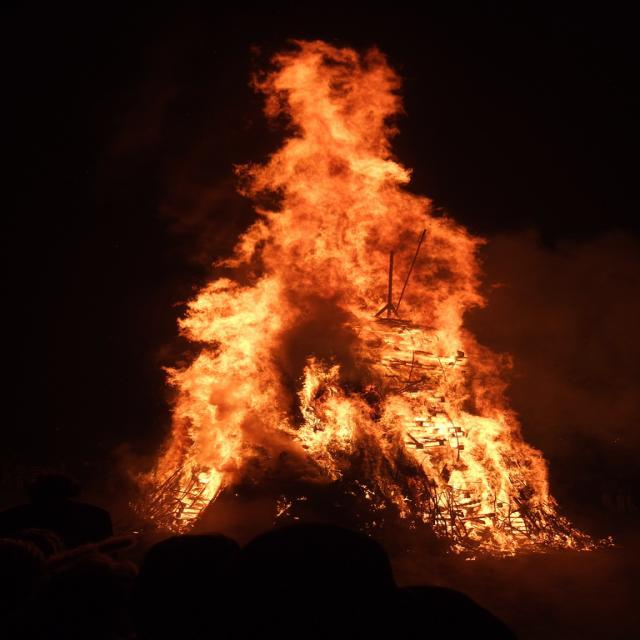Fire: (406, 400, 536, 528), (283, 156, 400, 260), (175, 361, 271, 477), (288, 54, 392, 154), (364, 321, 464, 394), (188, 283, 290, 347)
